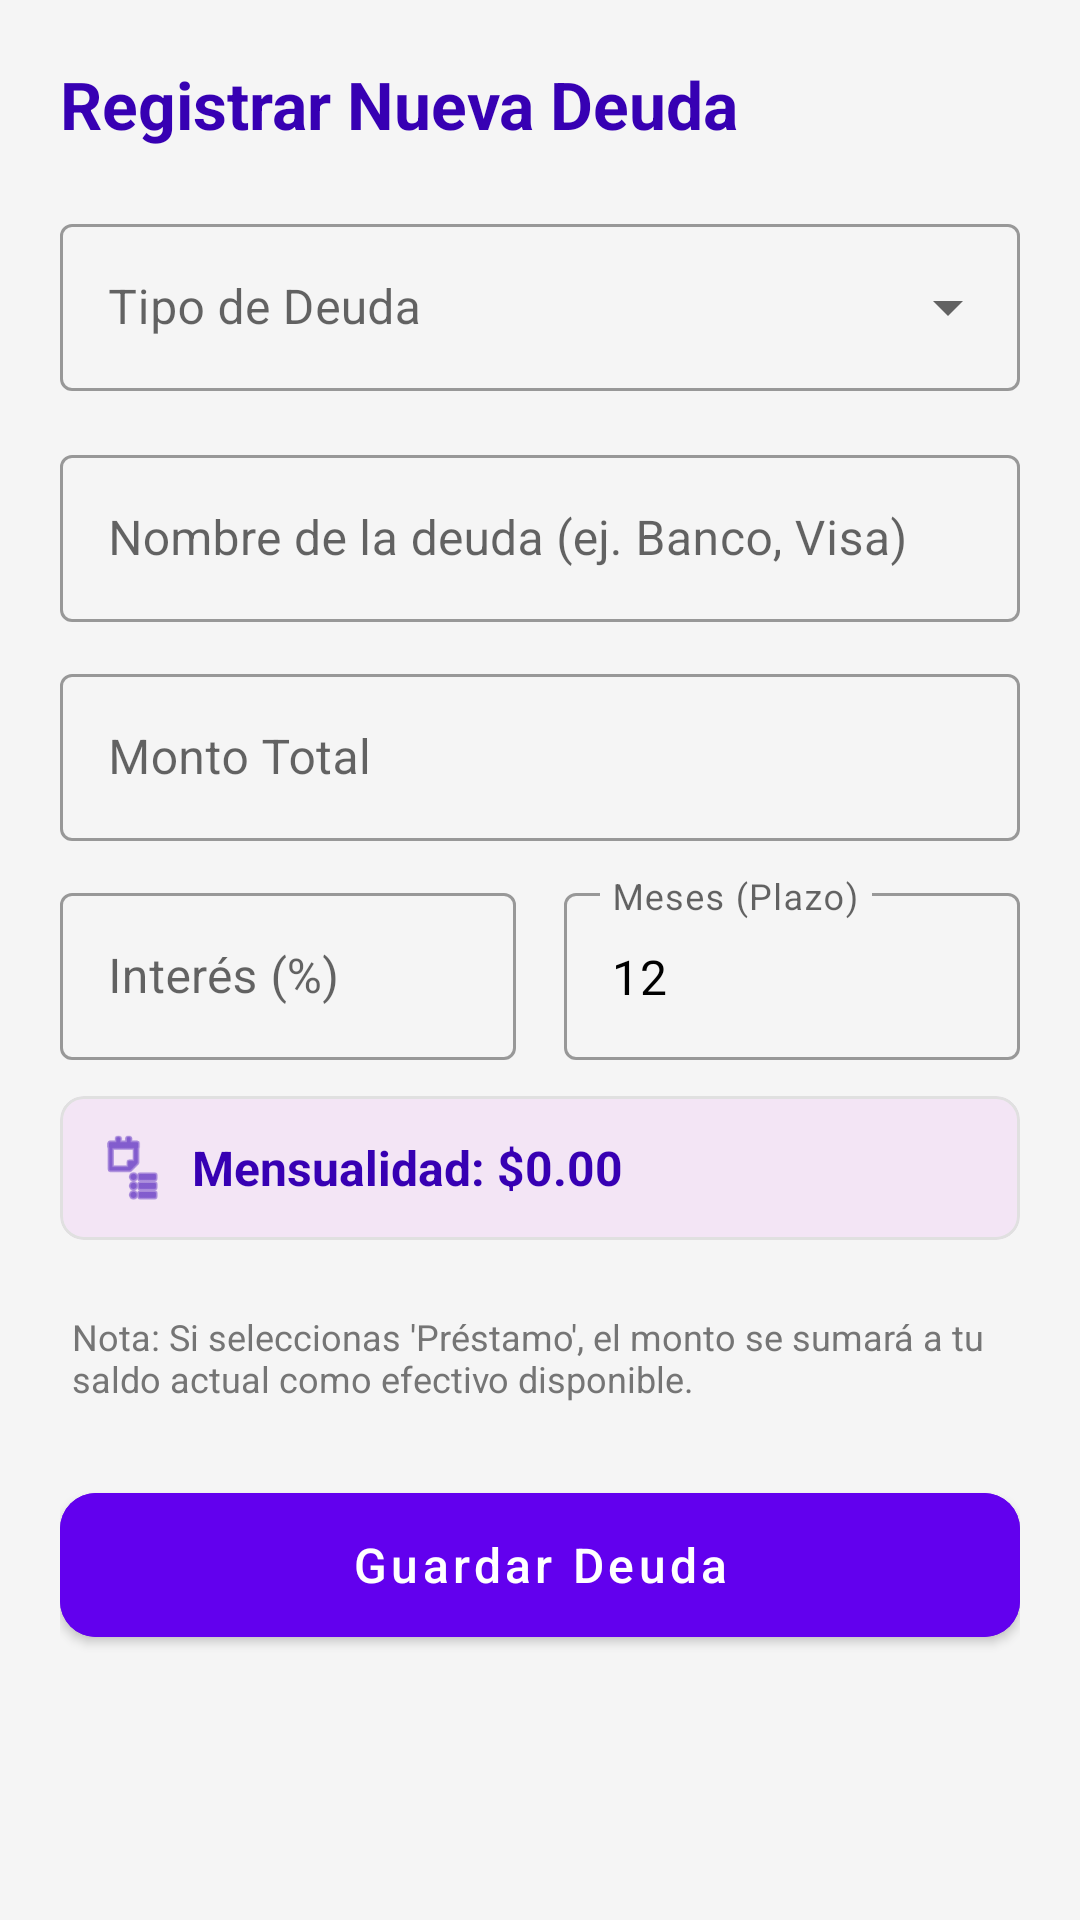

Icon click points for this 1080 x 1920 phone screenshot, format [x,y]:
agenda: [132,1168]
